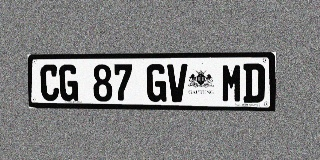7: (113, 64, 132, 102)
8: (93, 64, 112, 101)
C: (40, 65, 59, 101)
D: (243, 63, 265, 103)
G: (146, 64, 166, 102), (59, 64, 78, 101)
M: (221, 64, 243, 103)
V: (167, 64, 187, 102)
